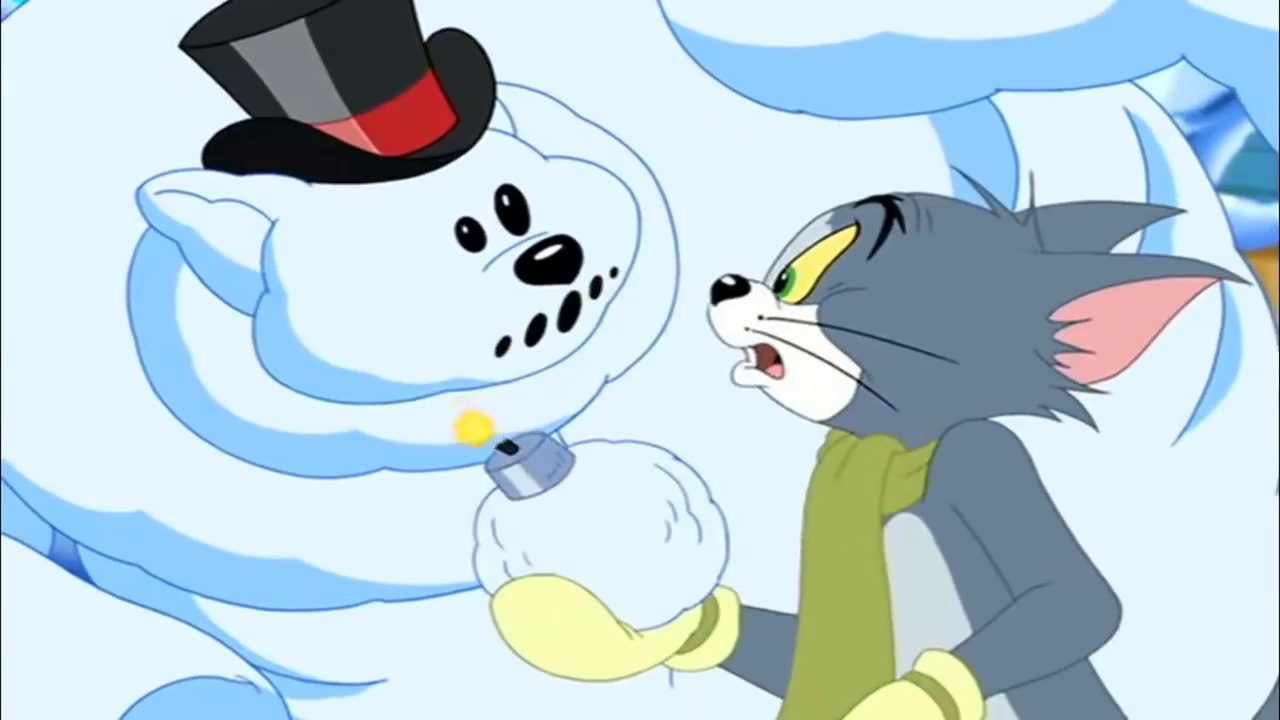face: (705, 191, 914, 422)
